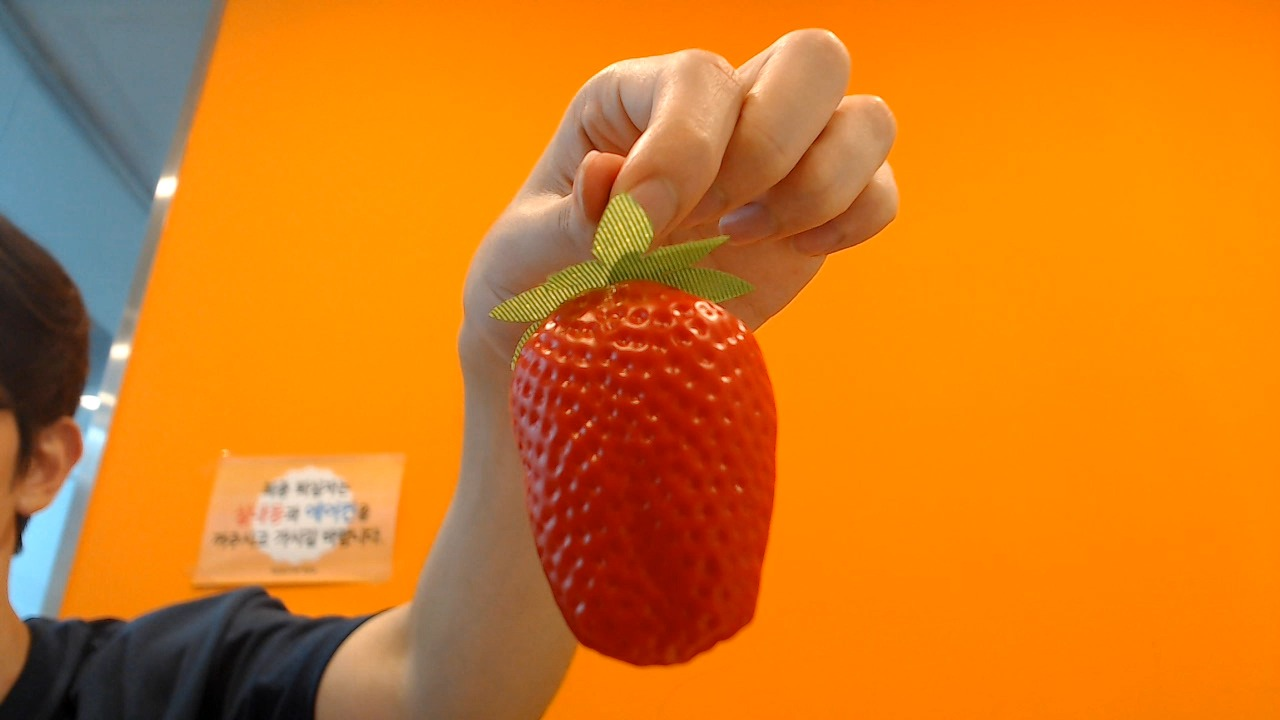strawberry: (503, 241, 776, 667)
